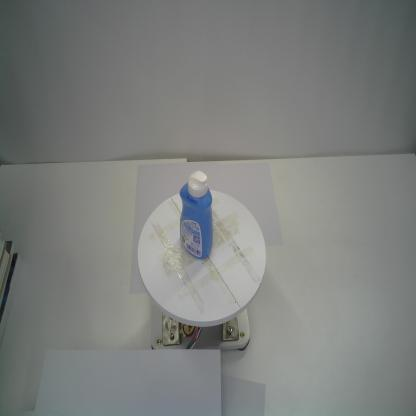Personal Hygiene: (179, 170, 214, 261)
